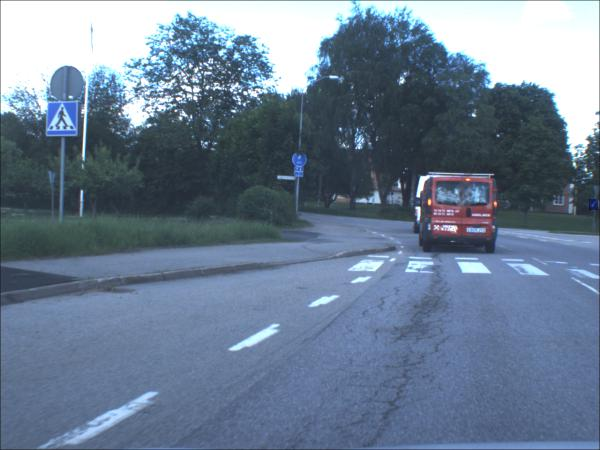PASS_RIGHT_SIDE: (589, 201, 599, 213)
PEDESTRIAN_CROSSING: (46, 102, 79, 139)
